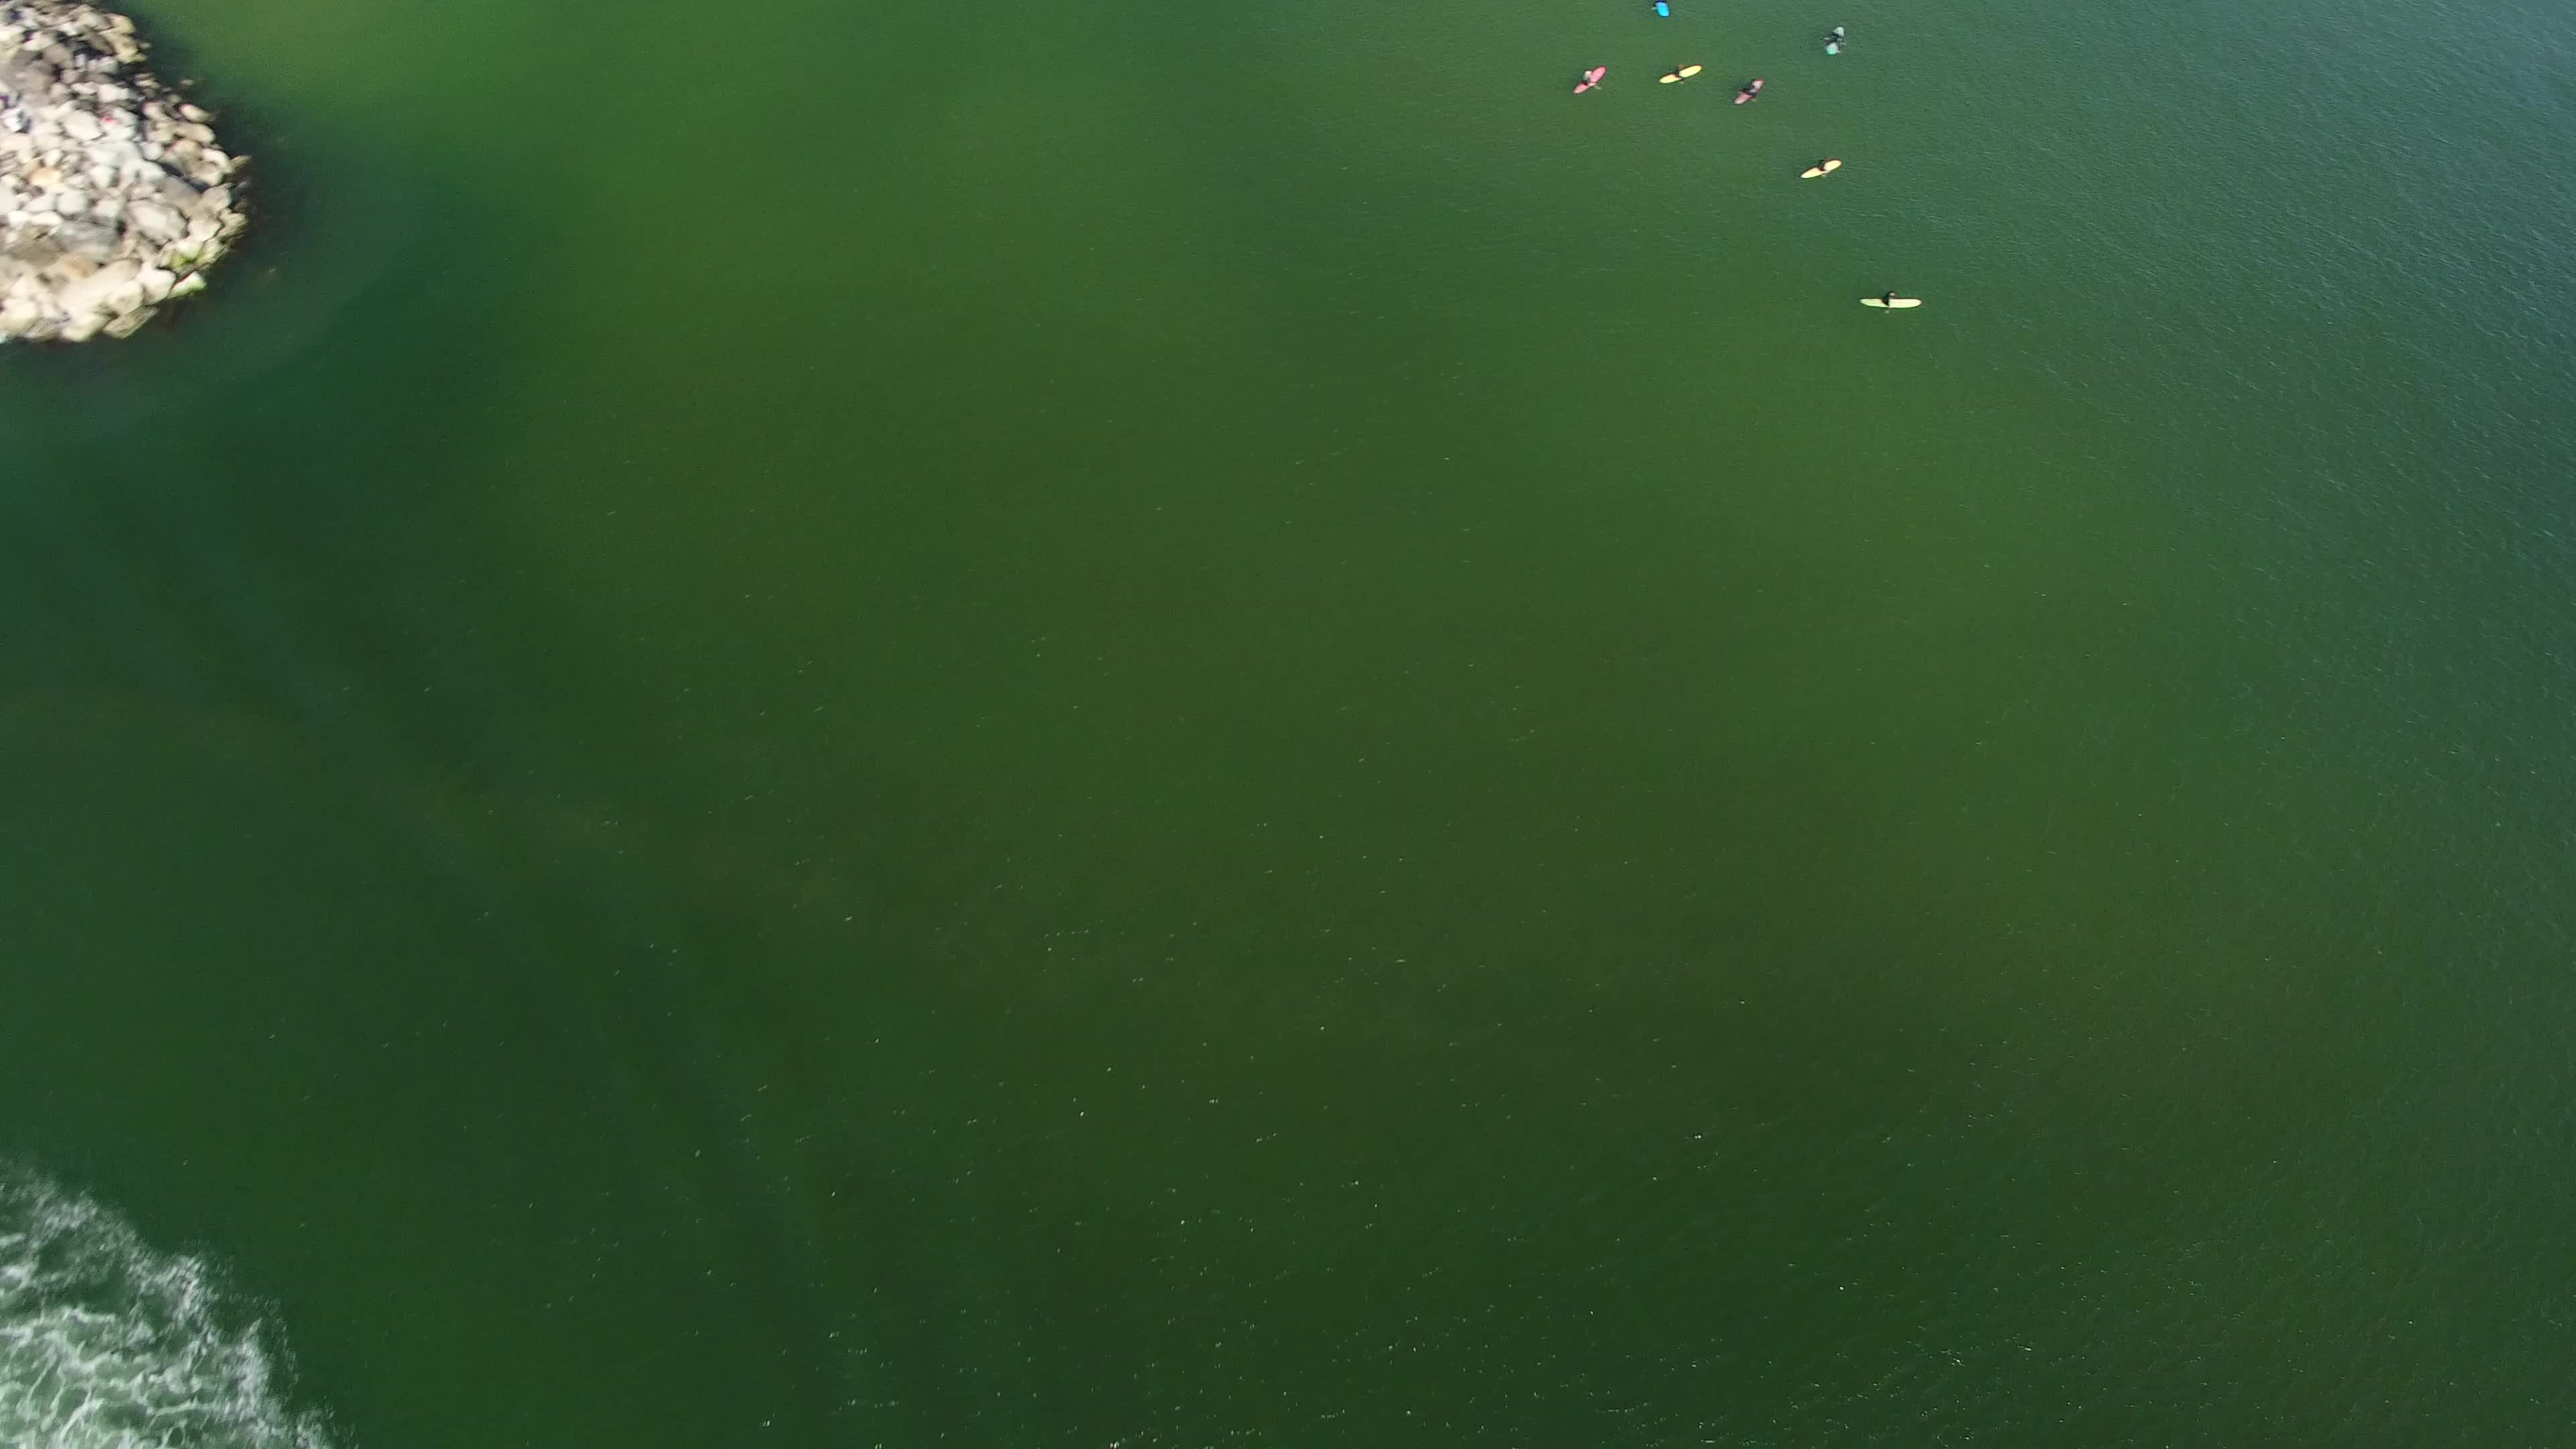surfer: (1858, 288, 1928, 318), (1571, 64, 1610, 97), (1801, 157, 1849, 184), (1661, 64, 1709, 90), (1821, 27, 1851, 60), (1734, 81, 1764, 110), (1654, 0, 1675, 23)
